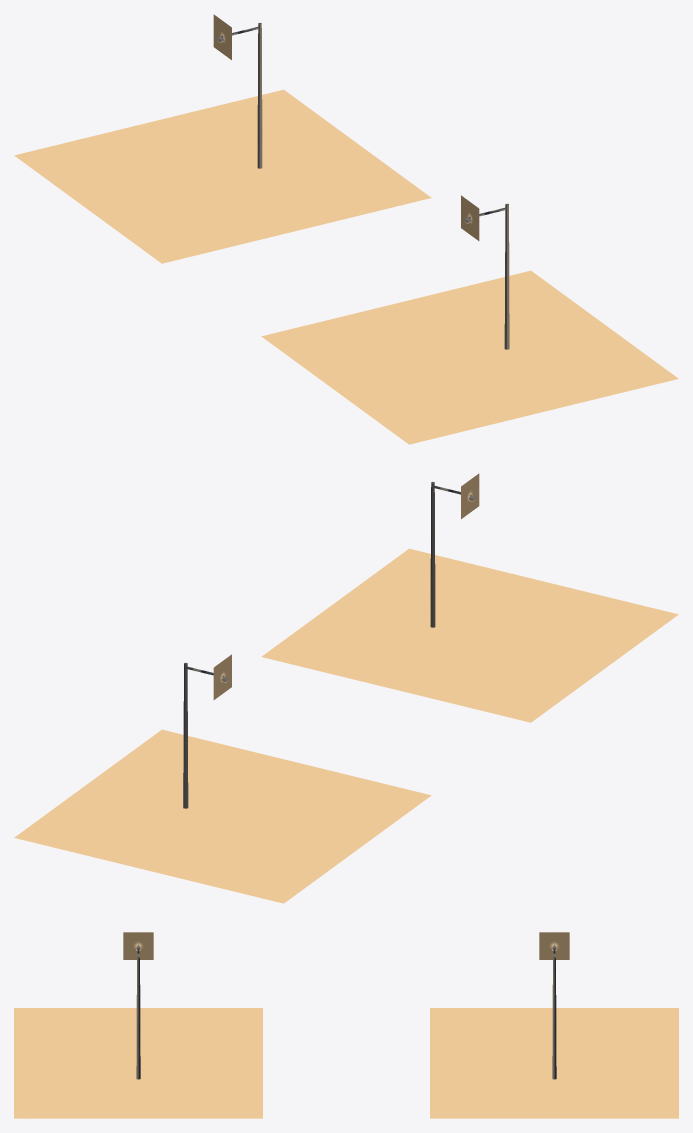
File: lot_lamps.glb
3 views of the same model, one above another, from view 1: azimuth 30°, elevation 25°; view 2: azimuth 150°, elevation 25°; view 3: azimuth 270°, elevation 25° (orthographic). The views are drawn at different scales.
Visible parts, largest first — view 1: lot_pool_decal_z21, lot_pool_decal_z41, lot_lamp_z41, lot_lamp_z21; view 2: lot_pool_decal_z41, lot_pool_decal_z21, lot_lamp_z21, lot_lamp_z41; view 3: lot_pool_decal_z21, lot_pool_decal_z41, lot_glow_sprite_z21, lot_glow_sprite_z41, lot_lamp_z21, lot_lamp_z41.
Part boxes in pixels (box(x1,y1,x2,y2)): lot_pool_decal_z21: box(14, 89, 431, 263); lot_pool_decal_z41: box(261, 270, 678, 444); lot_lamp_z41: box(464, 203, 509, 349); lot_lamp_z21: box(217, 23, 262, 168); lot_pool_decal_z41: box(261, 548, 678, 722); lot_pool_decal_z21: box(14, 729, 431, 903); lot_lamp_z21: box(183, 662, 228, 808); lot_lamp_z41: box(430, 482, 475, 627); lot_pool_decal_z21: box(430, 1008, 678, 1118); lot_pool_decal_z41: box(14, 1008, 262, 1118); lot_glow_sprite_z21: box(539, 932, 569, 959); lot_glow_sprite_z41: box(123, 932, 153, 959); lot_lamp_z21: box(552, 944, 556, 1079); lot_lamp_z41: box(136, 944, 140, 1079).
Size of the model in its own units: 12 by 6.65 by 30.44.
5 materials, 5 textured.
